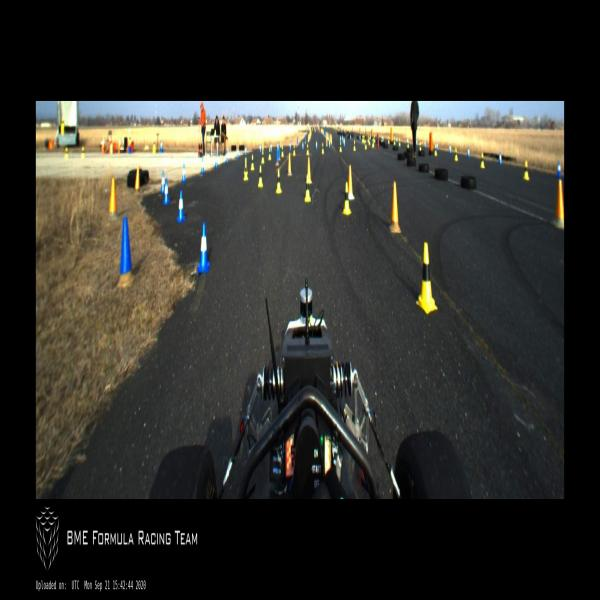blue_cone: (198, 223, 210, 270), (177, 190, 185, 222), (163, 179, 170, 204), (557, 161, 562, 177), (161, 172, 165, 192), (182, 164, 186, 181), (498, 152, 502, 165), (201, 158, 204, 173), (215, 153, 218, 167), (226, 150, 229, 162), (160, 138, 163, 150), (467, 147, 470, 157), (315, 140, 318, 149), (259, 144, 262, 152), (328, 140, 331, 148), (237, 148, 239, 158), (290, 141, 292, 151), (436, 141, 438, 151), (302, 141, 304, 150), (344, 137, 346, 146), (270, 143, 272, 151), (450, 145, 452, 153), (424, 140, 426, 148), (396, 136, 398, 144), (342, 136, 344, 142), (245, 146, 246, 156), (407, 138, 408, 144), (340, 135, 341, 141)
orange_cone: (102, 136, 105, 147), (118, 136, 121, 147), (109, 134, 112, 144)
unknown_cone: (117, 218, 135, 288), (389, 181, 401, 234), (551, 180, 564, 228), (108, 178, 118, 216), (348, 166, 355, 199), (134, 164, 140, 192), (306, 156, 312, 183), (287, 152, 292, 176), (275, 147, 279, 166), (278, 144, 280, 161), (325, 136, 328, 146), (330, 134, 332, 144), (304, 135, 306, 144), (297, 136, 298, 145), (308, 134, 309, 142)
yellow_cone: (416, 242, 438, 314), (343, 182, 352, 215), (305, 177, 311, 202), (276, 169, 282, 193), (524, 160, 530, 179), (258, 166, 263, 187), (244, 158, 248, 180), (250, 154, 255, 170), (268, 146, 272, 161), (292, 144, 296, 156), (81, 147, 85, 159), (455, 147, 458, 161), (481, 153, 484, 167), (152, 138, 156, 148), (128, 134, 132, 144), (281, 145, 284, 157), (306, 144, 309, 155), (434, 144, 437, 155), (65, 148, 68, 159), (339, 142, 342, 152), (353, 140, 356, 150), (419, 141, 422, 151), (393, 136, 396, 146), (61, 116, 64, 126), (398, 138, 401, 147), (262, 151, 264, 163), (322, 142, 324, 154), (407, 138, 409, 150), (373, 135, 376, 143), (368, 138, 371, 146), (365, 139, 367, 149), (372, 138, 374, 148), (388, 135, 390, 144), (362, 134, 364, 143), (363, 136, 365, 144), (367, 135, 369, 142), (381, 136, 383, 142)
